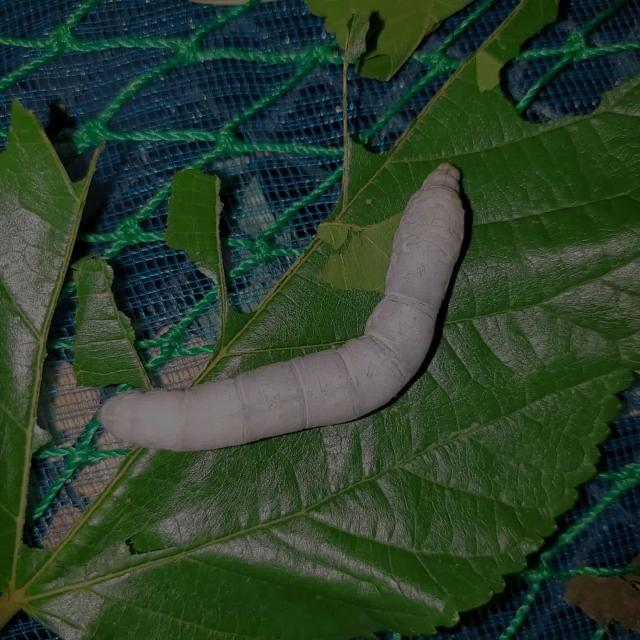Healthy: (76, 135, 510, 493)
